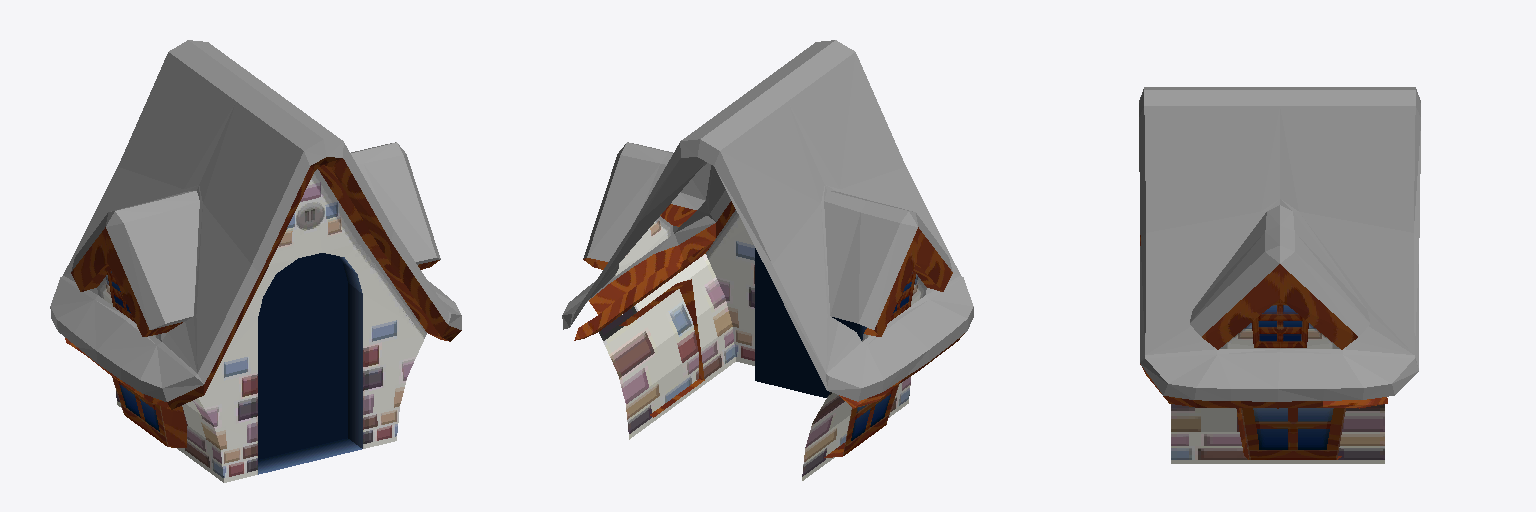
The picture shows the model from 3 angles: view 1: azimuth 30°, elevation 25°; view 2: azimuth 150°, elevation 25°; view 3: azimuth 270°, elevation 25°; orthographic projection.
Parts seen in each view (by area): view 1: vsn_mesh_1__mesh_1_.002, vsn_mesh_0__mesh_0_.002; view 2: vsn_mesh_1__mesh_1_.002, vsn_mesh_0__mesh_0_.002; view 3: vsn_mesh_1__mesh_1_.002, vsn_mesh_0__mesh_0_.002.
Part boxes in pixels (left/top/right/bottom): vsn_mesh_1__mesh_1_.002: left=50, top=40, right=461, bottom=401; vsn_mesh_0__mesh_0_.002: left=65, top=157, right=461, bottom=482; vsn_mesh_1__mesh_1_.002: left=562, top=40, right=973, bottom=401; vsn_mesh_0__mesh_0_.002: left=574, top=201, right=964, bottom=480; vsn_mesh_1__mesh_1_.002: left=1139, top=87, right=1420, bottom=401; vsn_mesh_0__mesh_0_.002: left=1140, top=235, right=1387, bottom=463.
Bounding box in the file's own units: 0.9712 × 0.961 × 0.74.
2 materials, 1 textured.